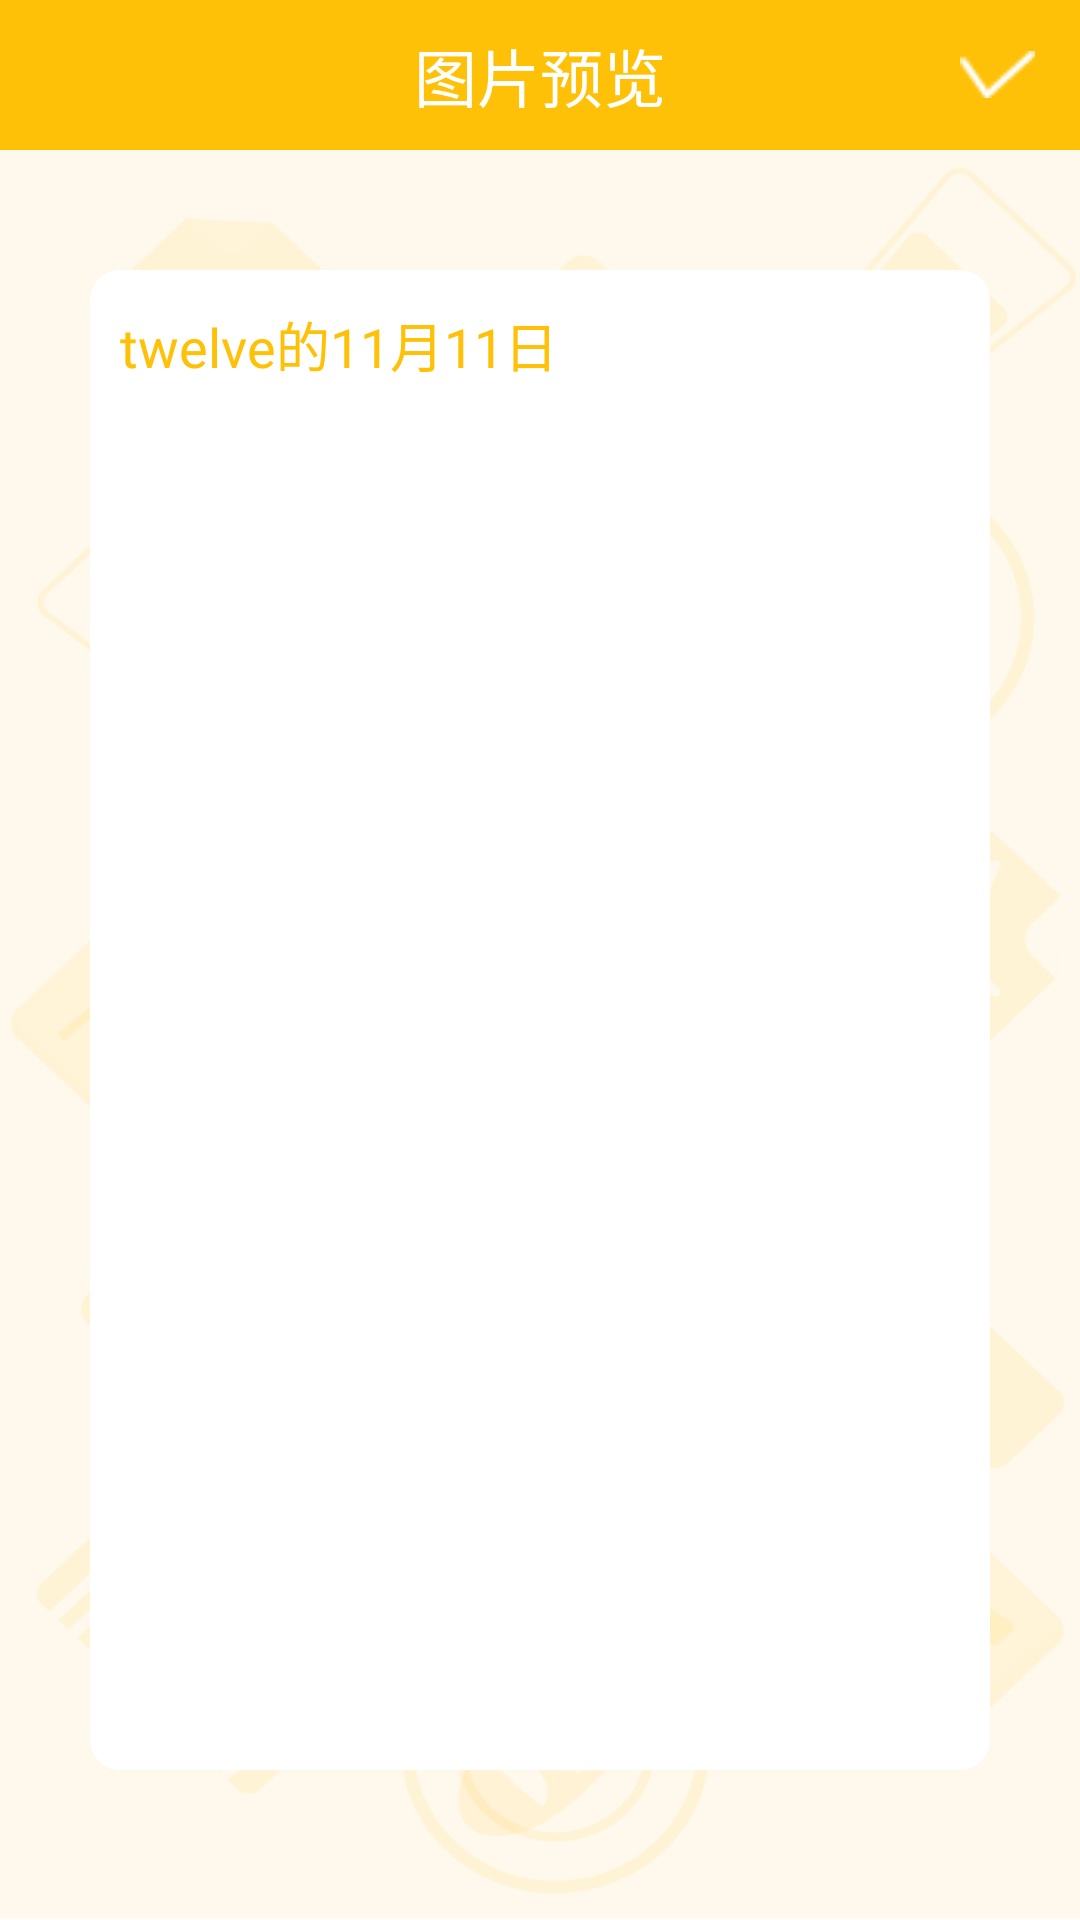

Icon click points for this 1080*1920 phone screenshot, format (x=x, y=y):
topgou: (x=997, y=74)
